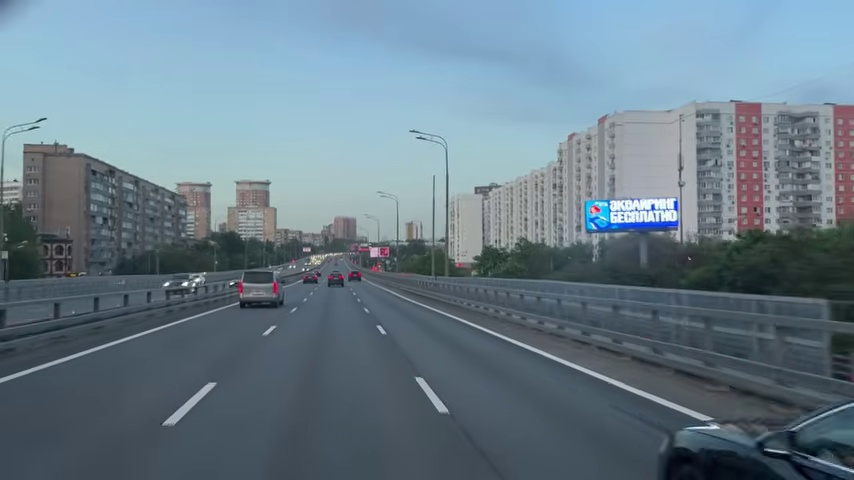apagada: (191, 379, 216, 403), (406, 126, 428, 146), (26, 114, 47, 134)
